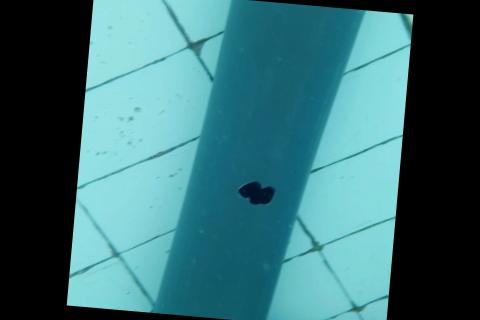kebocoran: (235, 178, 279, 208)
